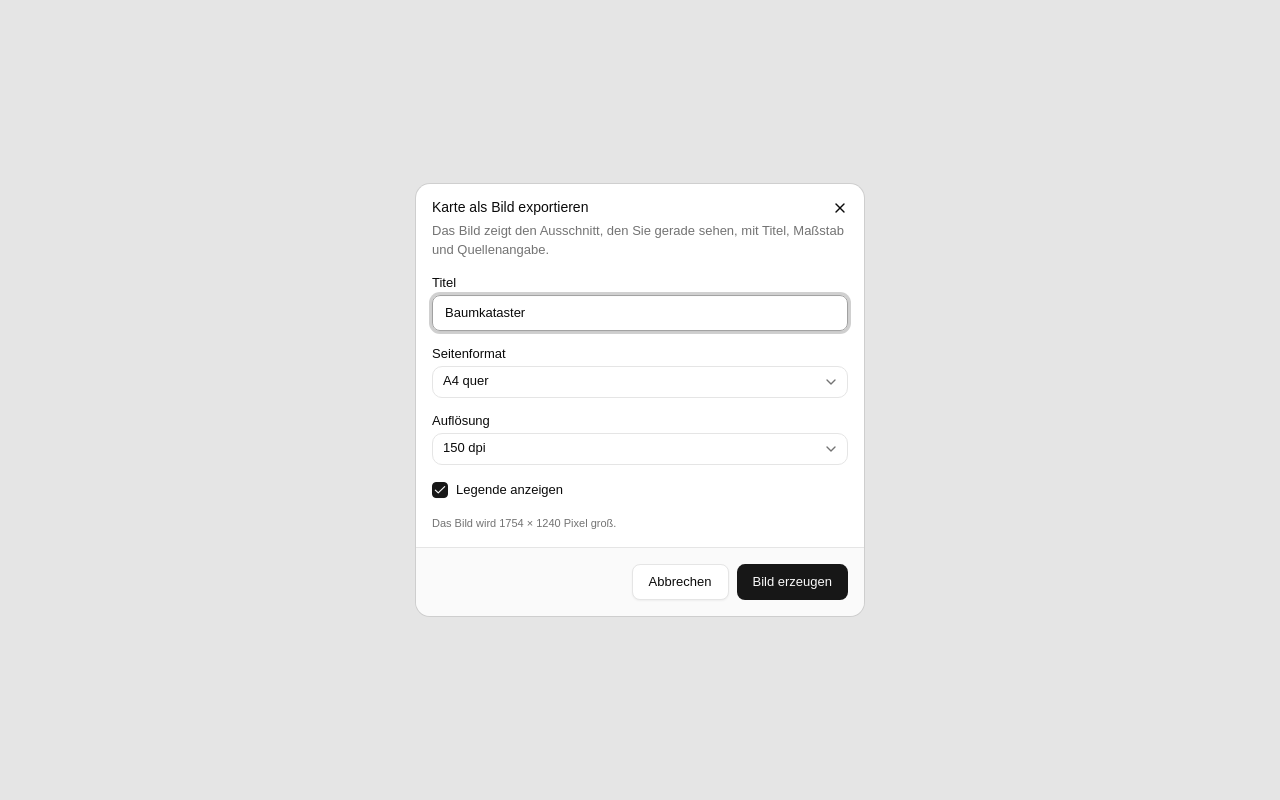
it: MapImageDialog › lehnt ein zu großes Bild ab und nennt die größte mögliche Größe
Click the dropdown named "Auflösung": x=464, y=448 [432,433,848,465]
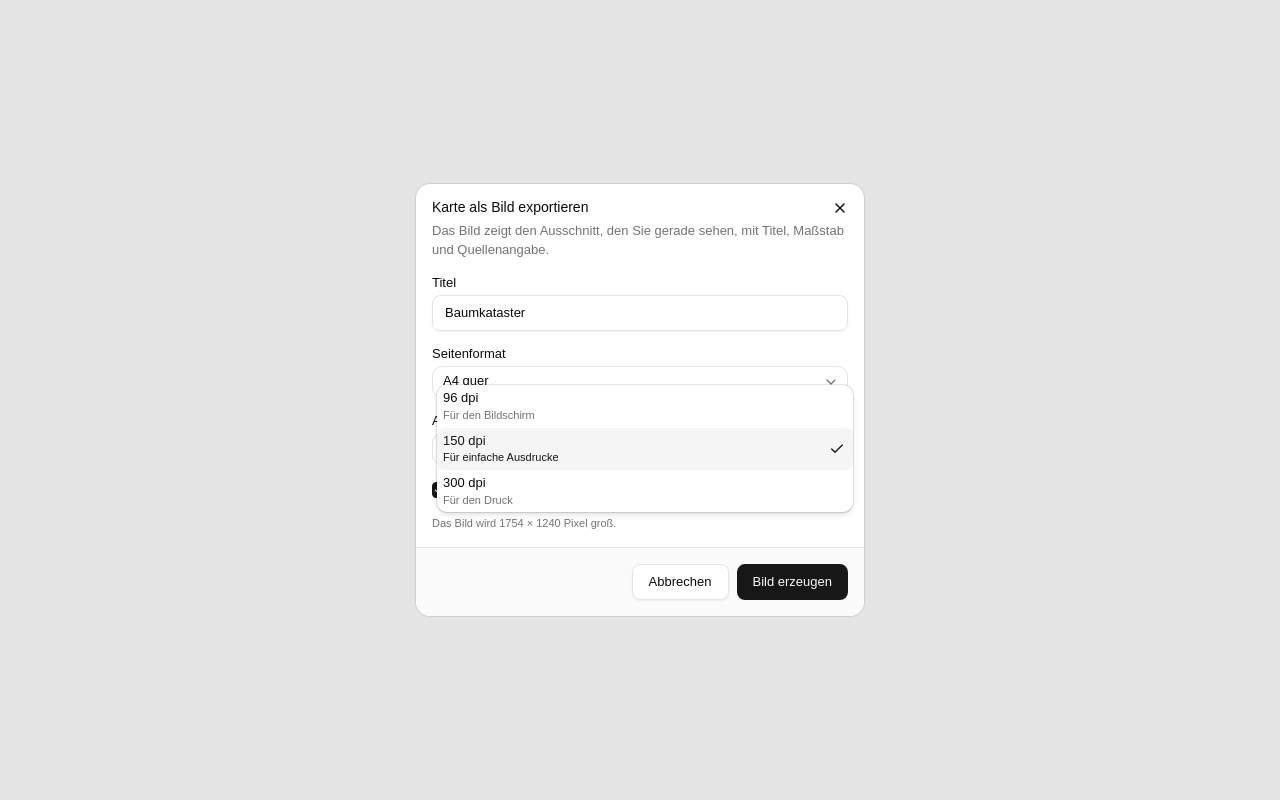
Click the option "300 dpi Für den Druck": x=478, y=490 [443,475,513,506]
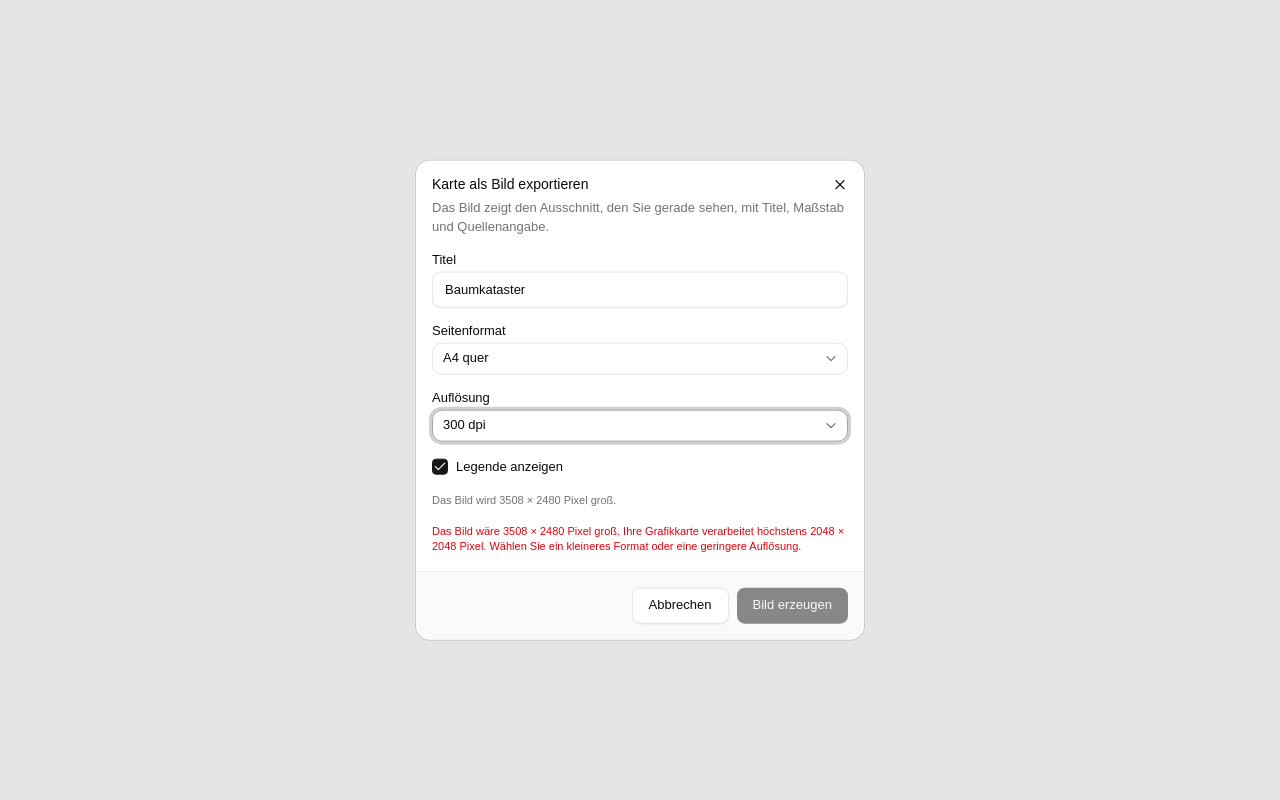
Check: the text "2048 × 2048 Pixel" is shown, box [432,525,844,552]
Check: the button "Bild erzeugen" is disabled, box [736,587,848,623]
